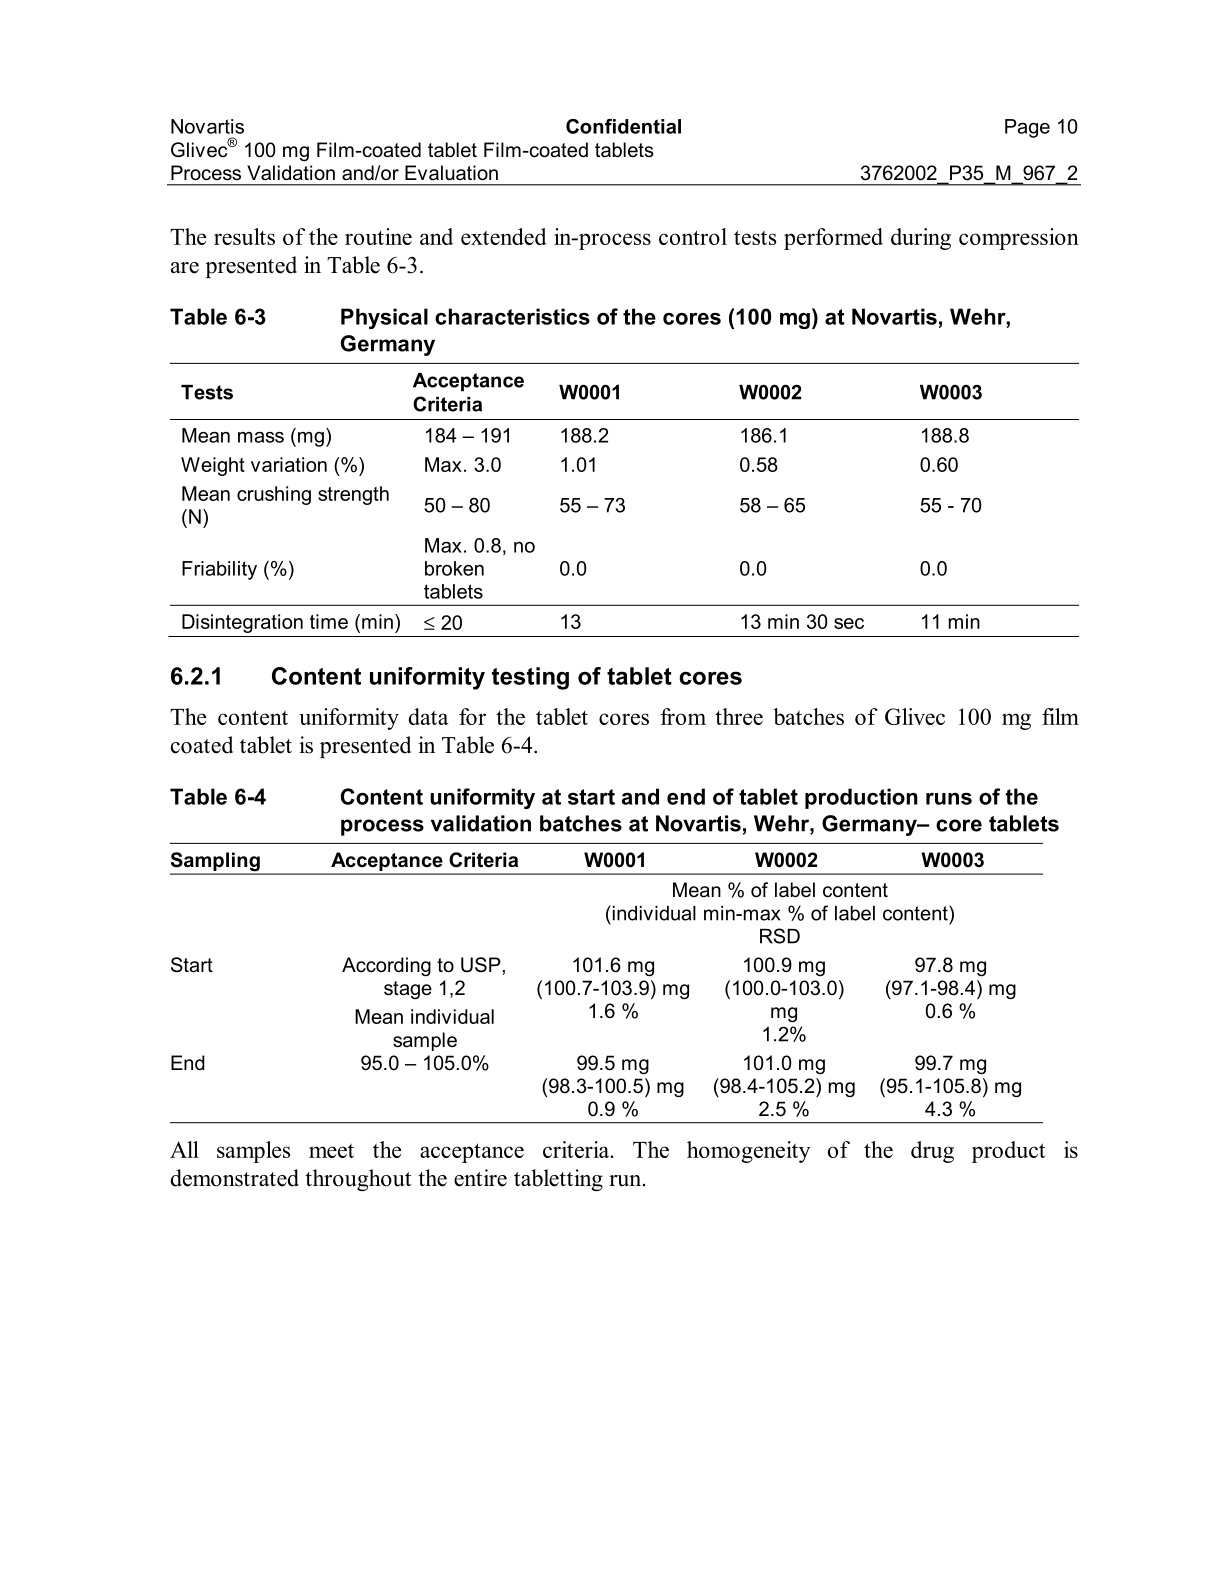partial_lined: (170, 361, 1081, 639)
partial_lined_merged_cells: (168, 842, 1044, 1124)
